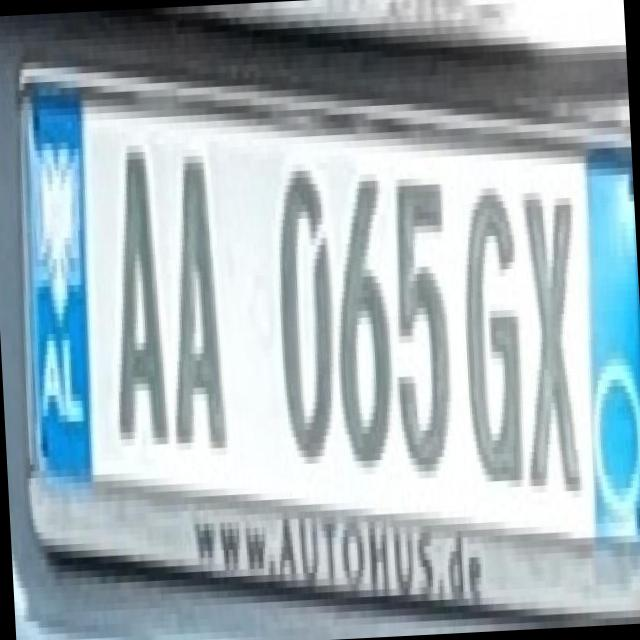0: (260, 149, 343, 459)
5: (378, 150, 462, 473)
6: (321, 153, 402, 463)
A: (142, 135, 232, 451), (91, 131, 172, 447)
G: (451, 173, 534, 483)
X: (503, 163, 599, 494)
